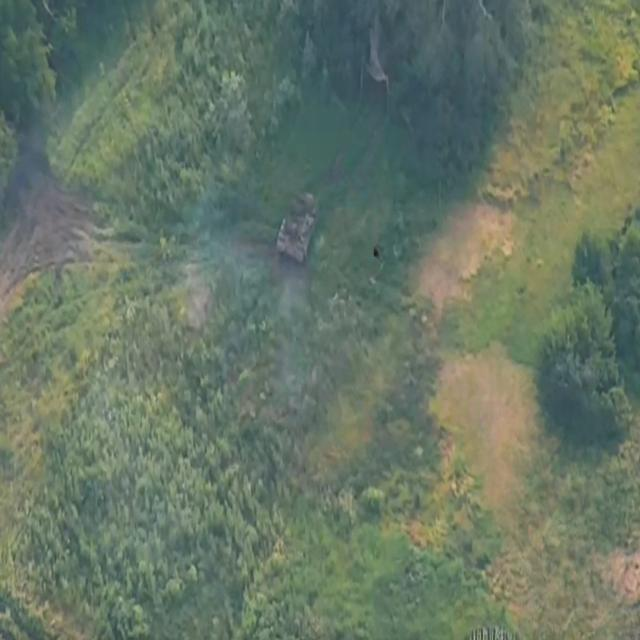MBT: (276, 187, 325, 270)
